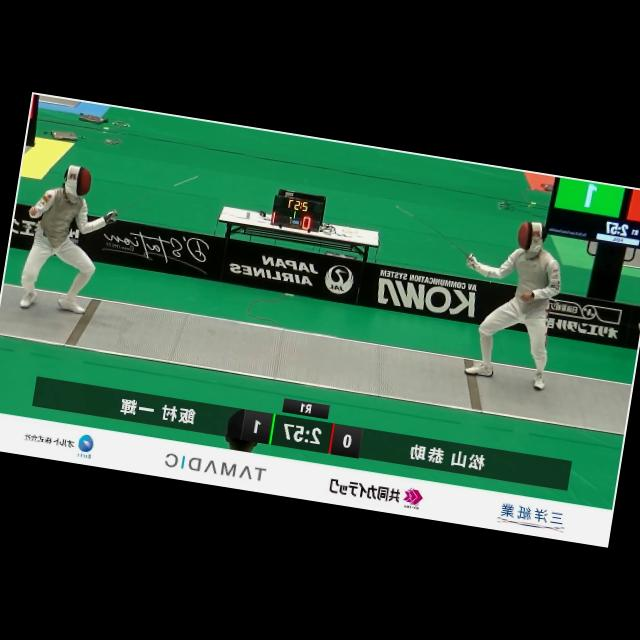blade: (106, 156, 205, 235), (384, 200, 486, 266)
